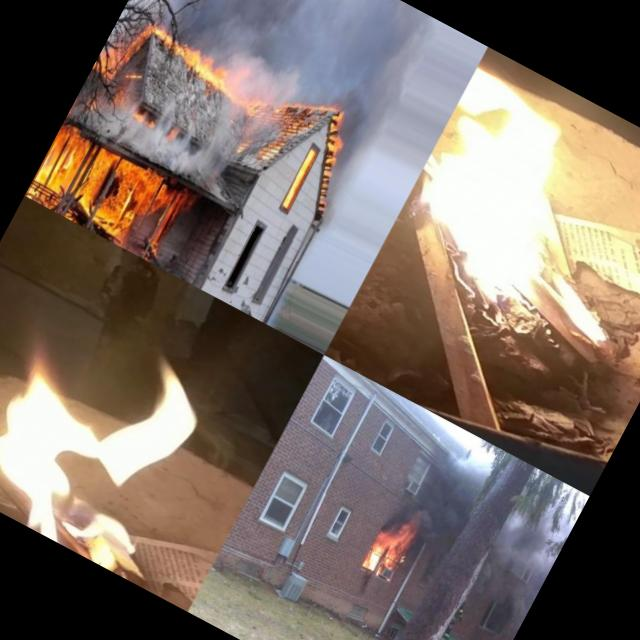fire: (369, 46, 640, 401), (0, 295, 289, 611), (25, 120, 196, 265), (133, 18, 237, 98), (356, 510, 426, 586), (274, 140, 323, 214), (314, 113, 362, 174), (92, 37, 130, 80)
smoke: (195, 0, 422, 129), (66, 66, 239, 198), (465, 510, 566, 628), (398, 448, 489, 550), (226, 56, 309, 124)
